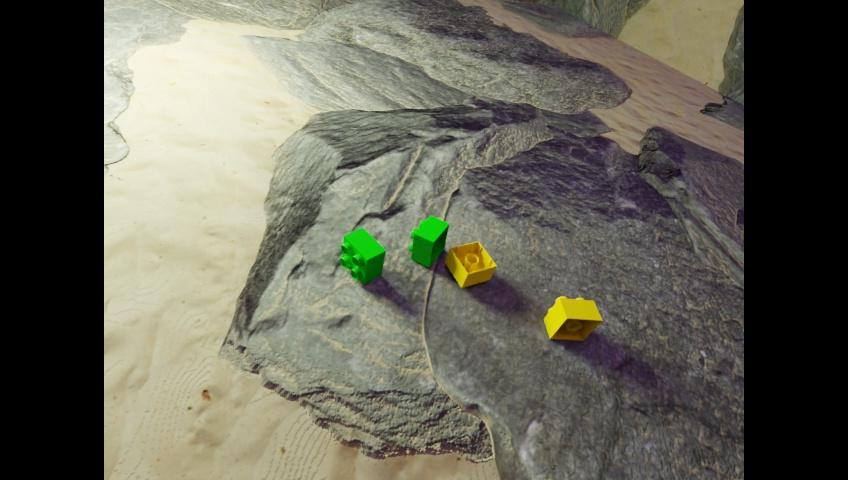2x2_green: (340, 227, 385, 284), (409, 215, 448, 267)
2x2_yellow: (543, 296, 601, 340), (444, 241, 495, 287)
